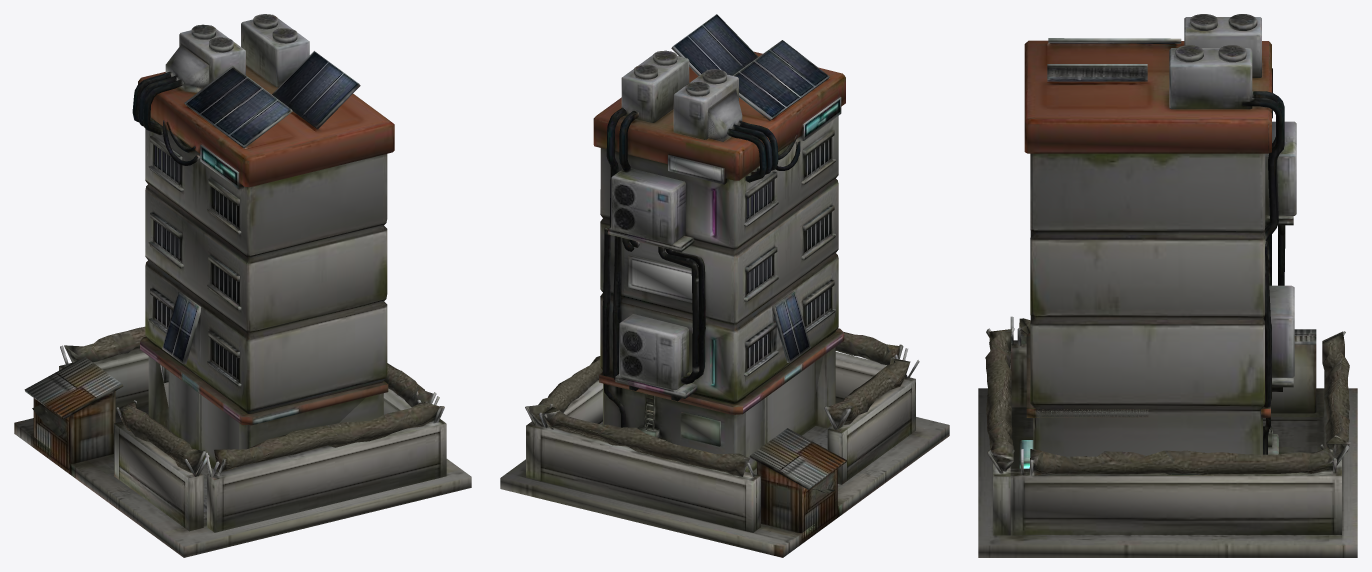
The model's file is server_compound.glb.
3 views of the same model, side by side, from view 1: azimuth 30°, elevation 25°; view 2: azimuth 150°, elevation 25°; view 3: azimuth 270°, elevation 25° (orthographic). The views are drawn at different scales.
Parts seen in each view (by area): view 1: Body, Glow; view 2: Body; view 3: Body.
Boxes of the visible parts, left/top/right/bottom form: Body: left=14, top=14, right=471, bottom=557; Glow: left=339, top=382, right=382, bottom=422; Body: left=500, top=14, right=949, bottom=557; Body: left=978, top=14, right=1357, bottom=557.
Size of the model in its own units: 16 by 20.91 by 15.75.
Materials: 2 (2 with a texture image).
